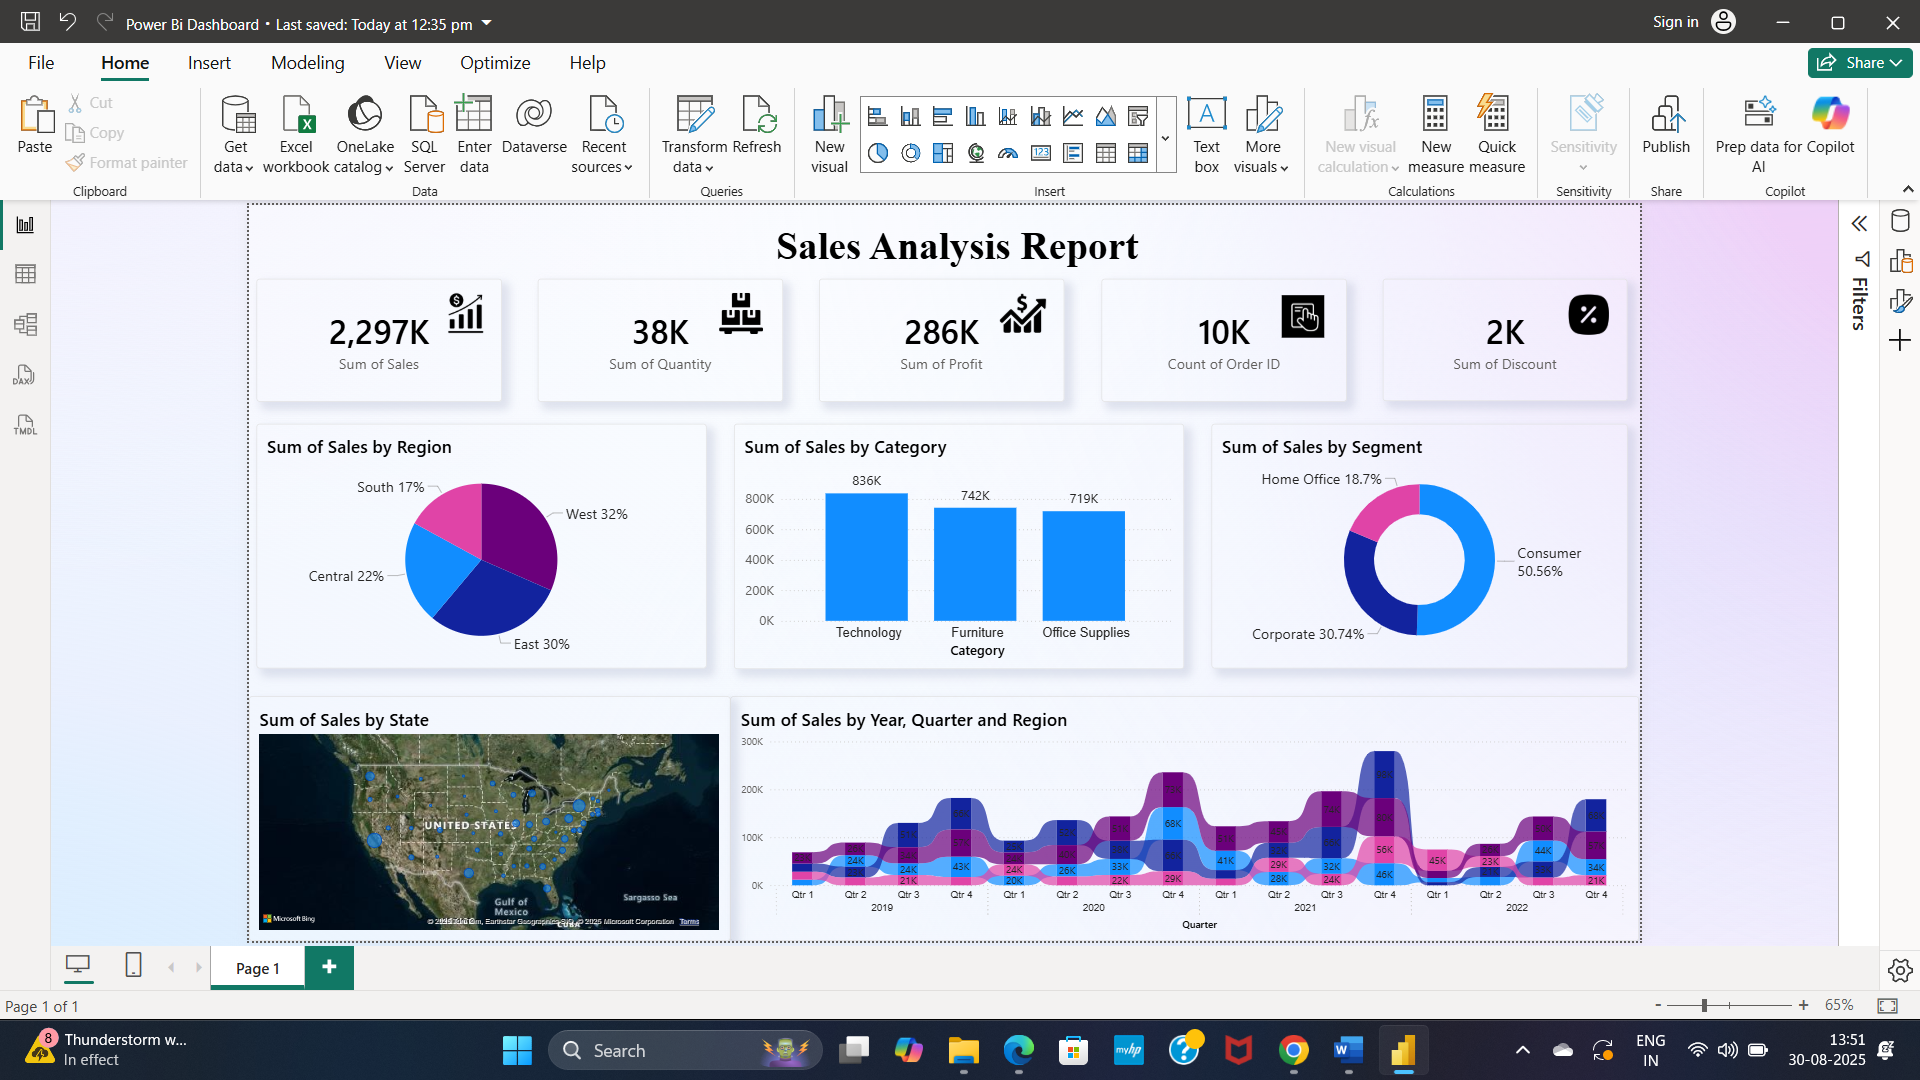

The dashboard page shown, as its layout file describes it:
{"tool":"powerbi","page":{"name":"Page 1","canvas":[1700,900],"ordinal":0},"visuals":[{"type":"pieChart","fields":{"Category":["CombinedData.Region"],"Y":["CombinedData.Sales"]},"box":[9.2,267.5,550.3,299.6],"z":0},{"type":"donutChart","fields":{"Category":["CombinedData.Segment"],"Y":["CombinedData.Sales"]},"box":[1177,267.5,509,299.6],"z":1000},{"type":"clusteredColumnChart","fields":{"Category":["CombinedData.Category"],"Y":["CombinedData.Sales"]},"box":[593.2,267.5,550,300],"z":2000},{"type":"ribbonChart","fields":{"Category":["CombinedData.Order Date.Variation.Date Hierarchy.Year","CombinedData.Order Date.Variation.Date Hierarchy.Quarter","CombinedData.Order Date.Variation.Date Hierarchy.Month","CombinedData.Order Date.Variation.Date Hierarchy.Day"],"Y":["CombinedData.Sales"],"Series":["CombinedData.Region"]},"box":[588.5,600.7,1111.2,299.6],"z":3000},{"type":"map","fields":{"Category":["CombinedData.State"],"Size":["CombinedData.Sales"]},"box":[0,600.7,588.5,299.6],"z":4000},{"type":"card","fields":{"Values":["CombinedData.Sales"]},"box":[8.9,89.9,300,150],"z":5000},{"type":"card","fields":{"Values":["CombinedData.Quantity"]},"box":[353.2,89.9,300,150],"z":6000},{"type":"card","fields":{"Values":["CombinedData.Profit"]},"box":[697.6,89.9,300,150],"z":7000},{"type":"card","fields":{"Values":["CombinedData.Order ID"]},"box":[1042,89.9,300,150],"z":8000},{"type":"card","fields":{"Values":["CombinedData.Discount"]},"box":[1386.4,89.9,299.6,149.8],"z":9000},{"type":"textbox","box":[9.2,13.8,1183.1,76.4],"z":10000},{"type":"image","box":[235.4,99.4,59.6,65.7],"z":11000},{"type":"image","box":[1606.5,103.9,64.2,61.1],"z":12000},{"type":"image","box":[908.1,97.3,77.2,75.7],"z":13000},{"type":"image","box":[569.9,98.8,63.3,66.4],"z":14000},{"type":"image","box":[1257.1,105,64.9,61.8],"z":15000}]}

Visuals, with their boxes on the page's 1700x900 design canvas (x1, y1, x2, y2). These are canvas units, not pixel positions in the 1920x1080 screenshot, which may show the page scaled, cropped or inside an application window:
pieChart - CombinedData.Region x CombinedData.Sales: bbox=(9, 268, 560, 567)
donutChart - CombinedData.Segment x CombinedData.Sales: bbox=(1177, 268, 1686, 567)
clusteredColumnChart - CombinedData.Category x CombinedData.Sales: bbox=(593, 268, 1143, 568)
ribbonChart - CombinedData.Order Date.Variation.Date Hierarchy.Year x CombinedData.Order Date.Variation.Date Hierarchy.Quarter: bbox=(588, 601, 1700, 900)
map - CombinedData.State x CombinedData.Sales: bbox=(0, 601, 588, 900)
card - CombinedData.Sales: bbox=(9, 90, 309, 240)
card - CombinedData.Quantity: bbox=(353, 90, 653, 240)
card - CombinedData.Profit: bbox=(698, 90, 998, 240)
card - CombinedData.Order ID: bbox=(1042, 90, 1342, 240)
card - CombinedData.Discount: bbox=(1386, 90, 1686, 240)
textbox: bbox=(9, 14, 1192, 90)
image: bbox=(235, 99, 295, 165)
image: bbox=(1606, 104, 1671, 165)
image: bbox=(908, 97, 985, 173)
image: bbox=(570, 99, 633, 165)
image: bbox=(1257, 105, 1322, 167)
